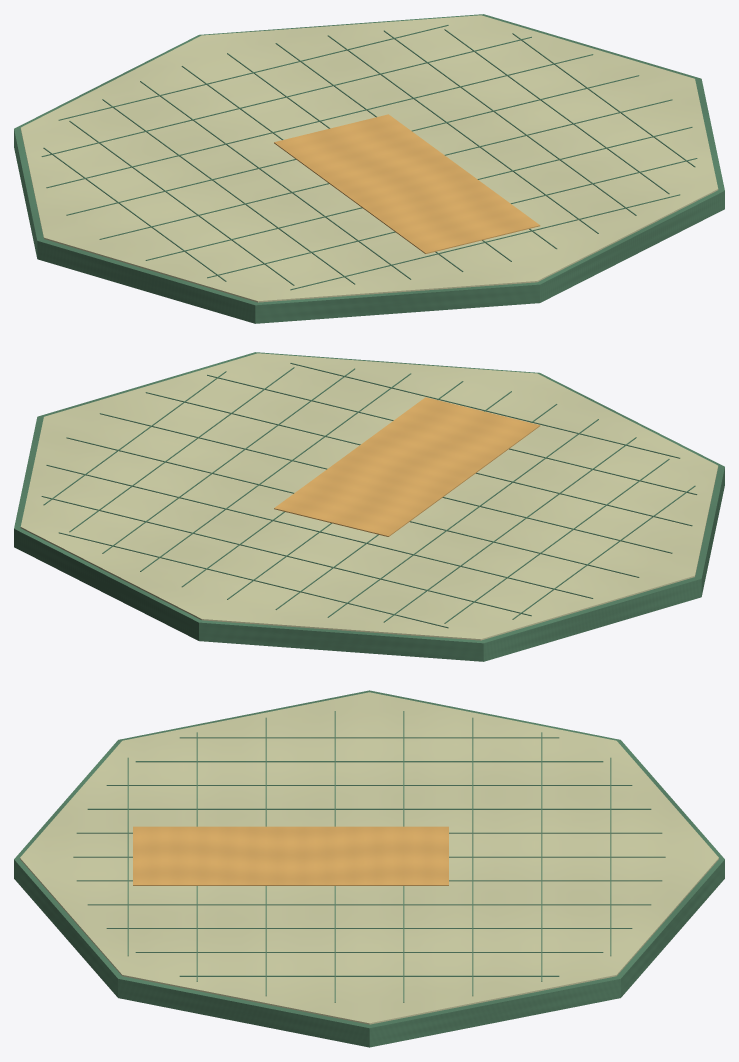
Rendered from atlas100-s006-a07.glb.
3 views of the same model, one above another, from view 1: azimuth 30°, elevation 25°; view 2: azimuth 150°, elevation 25°; view 3: azimuth 270°, elevation 25° (orthographic). The views are drawn at different scales.
Visible parts, largest first — view 1: atlas100-s006-a07:part-001, atlas100-s006-a07:part-000, atlas100-s006-a07:part-021, atlas100-s006-a07:part-015, atlas100-s006-a07:part-014, atlas100-s006-a07:part-017, atlas100-s006-a07:part-016, atlas100-s006-a07:part-018, atlas100-s006-a07:part-013, atlas100-s006-a07:part-020, atlas100-s006-a07:part-019, atlas100-s006-a07:part-005 (+3 smaller); view 2: atlas100-s006-a07:part-001, atlas100-s006-a07:part-000, atlas100-s006-a07:part-021, atlas100-s006-a07:part-015, atlas100-s006-a07:part-014, atlas100-s006-a07:part-016, atlas100-s006-a07:part-017, atlas100-s006-a07:part-018, atlas100-s006-a07:part-013, atlas100-s006-a07:part-020, atlas100-s006-a07:part-019, atlas100-s006-a07:part-005 (+3 smaller); view 3: atlas100-s006-a07:part-001, atlas100-s006-a07:part-000, atlas100-s006-a07:part-021, atlas100-s006-a07:part-005, atlas100-s006-a07:part-009, atlas100-s006-a07:part-003, atlas100-s006-a07:part-012, atlas100-s006-a07:part-002.
Part boxes in pixels (x1,y1,x2,y2): atlas100-s006-a07:part-001: (20, 15, 718, 302); atlas100-s006-a07:part-000: (14, 14, 724, 323); atlas100-s006-a07:part-021: (274, 114, 540, 253); atlas100-s006-a07:part-015: (46, 54, 593, 188); atlas100-s006-a07:part-014: (41, 36, 531, 156); atlas100-s006-a07:part-017: (99, 99, 672, 239); atlas100-s006-a07:part-016: (66, 75, 639, 215); atlas100-s006-a07:part-018: (145, 127, 692, 260); atlas100-s006-a07:part-013: (58, 25, 448, 120); atlas100-s006-a07:part-020: (290, 194, 680, 290); atlas100-s006-a07:part-019: (207, 158, 697, 278); atlas100-s006-a07:part-005: (140, 81, 411, 279); atlas100-s006-a07:part-001: (20, 353, 718, 640); atlas100-s006-a07:part-000: (14, 352, 724, 661); atlas100-s006-a07:part-021: (274, 397, 540, 536); atlas100-s006-a07:part-015: (46, 465, 593, 598); atlas100-s006-a07:part-014: (41, 496, 531, 616); atlas100-s006-a07:part-016: (66, 437, 639, 577); atlas100-s006-a07:part-017: (99, 413, 672, 553); atlas100-s006-a07:part-018: (145, 392, 692, 526); atlas100-s006-a07:part-013: (58, 532, 448, 628); atlas100-s006-a07:part-020: (290, 363, 680, 458); atlas100-s006-a07:part-019: (207, 374, 697, 494); atlas100-s006-a07:part-005: (327, 419, 598, 617); atlas100-s006-a07:part-001: (20, 692, 718, 1024); atlas100-s006-a07:part-000: (14, 690, 724, 1047); atlas100-s006-a07:part-021: (133, 826, 448, 885); atlas100-s006-a07:part-005: (87, 808, 651, 809); atlas100-s006-a07:part-009: (87, 904, 651, 905); atlas100-s006-a07:part-003: (135, 761, 603, 762); atlas100-s006-a07:part-012: (179, 975, 559, 976); atlas100-s006-a07:part-002: (179, 737, 559, 738).
Size of the model in its own units: 12.75 by 0.404 by 11.34.
Materials: 3 (3 with a texture image).
